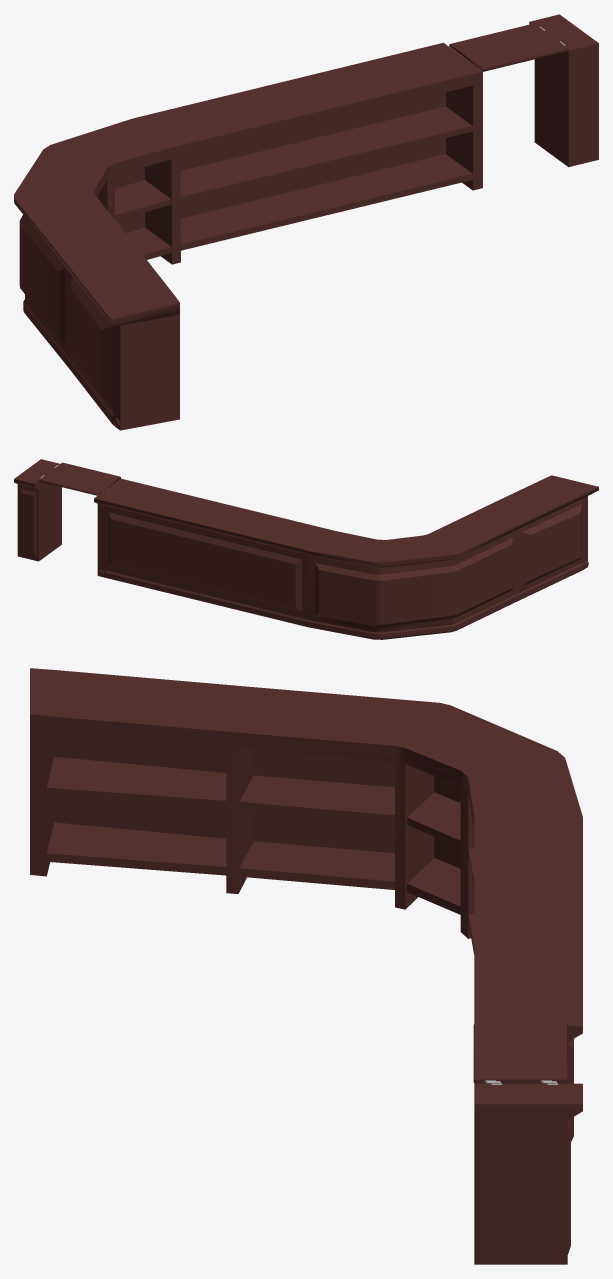
Rendered from bar.fbx.
3 renders of one model, top to bottom at view 1: azimuth 30°, elevation 25°; view 2: azimuth 150°, elevation 25°; view 3: azimuth 270°, elevation 25°, orthographic. The views are drawn at different scales.
Parts seen in each view (by area): view 1: bar, porte; view 2: bar, porte; view 3: bar, porte.
Part boxes in pixels (x1,y1,x2,y2): bar: (14, 14, 598, 430); porte: (449, 23, 567, 71); bar: (14, 459, 598, 639); porte: (39, 462, 120, 495); bar: (30, 668, 582, 1264); porte: (473, 1023, 567, 1083).
Bounding box in the file's own units: 221 × 39.06 × 119.
